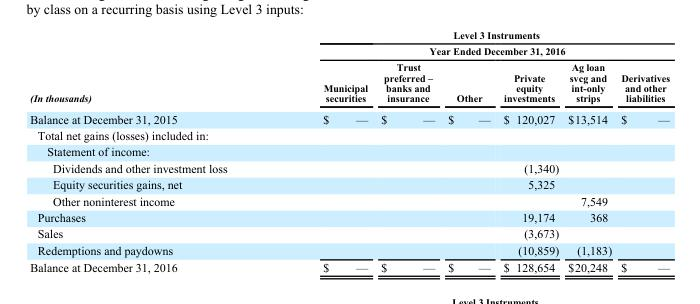table: (29, 28, 669, 273)
table column: (29, 28, 274, 273), (274, 28, 373, 273), (373, 28, 440, 273), (496, 28, 562, 273), (440, 28, 496, 273), (615, 28, 669, 273), (562, 28, 615, 273)
table column header: (29, 28, 669, 107)
table projected row header: (29, 126, 669, 143), (29, 143, 669, 159)
table row: (29, 58, 669, 107), (29, 28, 669, 58), (29, 107, 669, 126), (29, 126, 669, 143), (29, 175, 669, 192), (29, 208, 669, 225), (29, 241, 669, 258), (29, 143, 669, 159), (29, 159, 669, 175), (29, 192, 669, 208), (29, 225, 669, 241), (29, 258, 669, 273)
table spanning cell: (29, 28, 274, 107), (274, 28, 669, 58)
